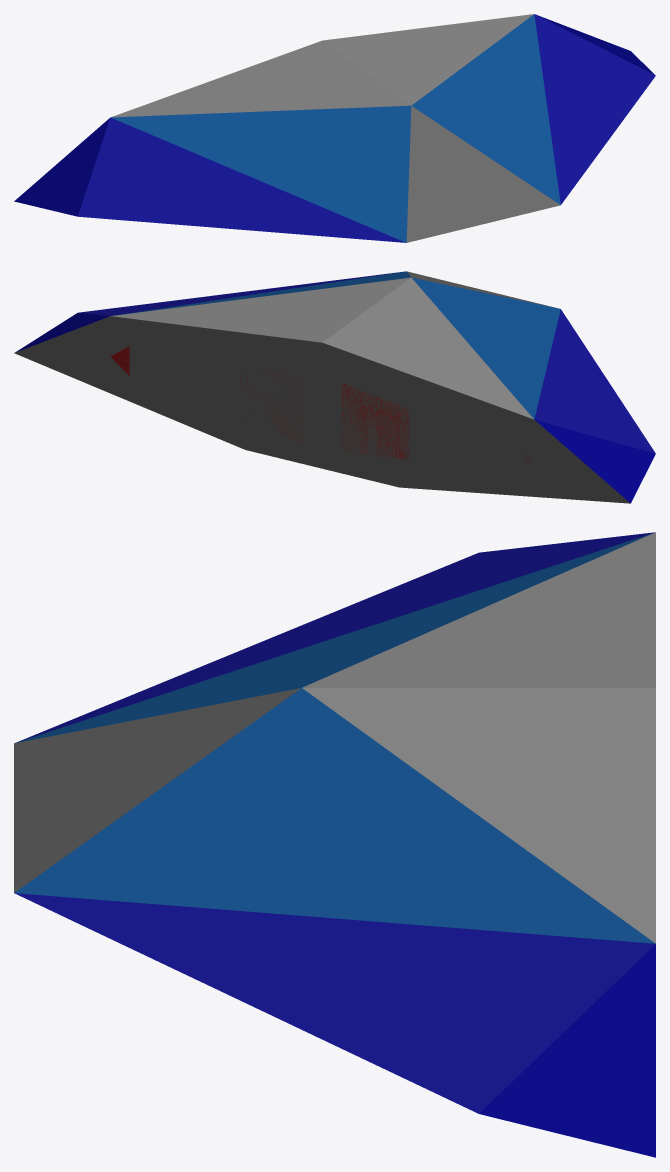
File: cobramk3.obj
The picture shows the model from 3 angles, top to bottom: view 1: azimuth 30°, elevation 25°; view 2: azimuth 150°, elevation 25°; view 3: azimuth 270°, elevation 25°; orthographic projection. The views are drawn at different scales.
Bounding box in the file's own units: 256 × 50 × 116.
